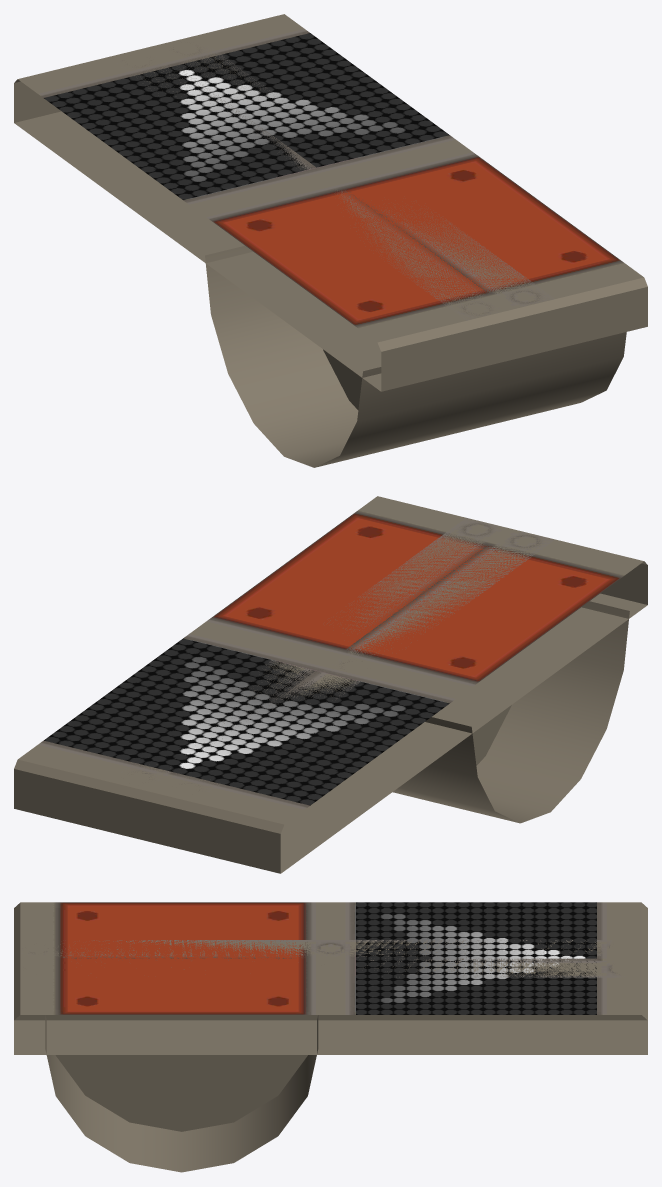
The model's file is GlideBoardJumpSlim_Prefab.fbx.
The picture shows the model from 3 angles, top to bottom: view 1: azimuth 30°, elevation 25°; view 2: azimuth 150°, elevation 25°; view 3: azimuth 270°, elevation 25°; orthographic projection. The views are drawn at different scales.
Parts seen in each view (by area): view 1: Board, Frame0, Frame1; view 2: Board, Frame1, Frame0; view 3: Board, Frame0, Frame1.
Part boxes in pixels (x1=…): Board: x1=14, y1=14, x2=647, y2=467; Frame0: x1=165, y1=41, x2=565, y2=429; Frame1: x1=113, y1=56, x2=514, y2=443; Board: x1=14, y1=496, x2=647, y2=873; Frame1: x1=147, y1=528, x2=555, y2=843; Frame0: x1=96, y1=518, x2=510, y2=841; Board: x1=14, y1=902, x2=647, y2=1172; Frame0: x1=14, y1=958, x2=646, y2=1131; Frame1: x1=14, y1=940, x2=613, y2=963.
Size of what is drawn, in the model's own units: 4.19 by 2.74 by 10.
